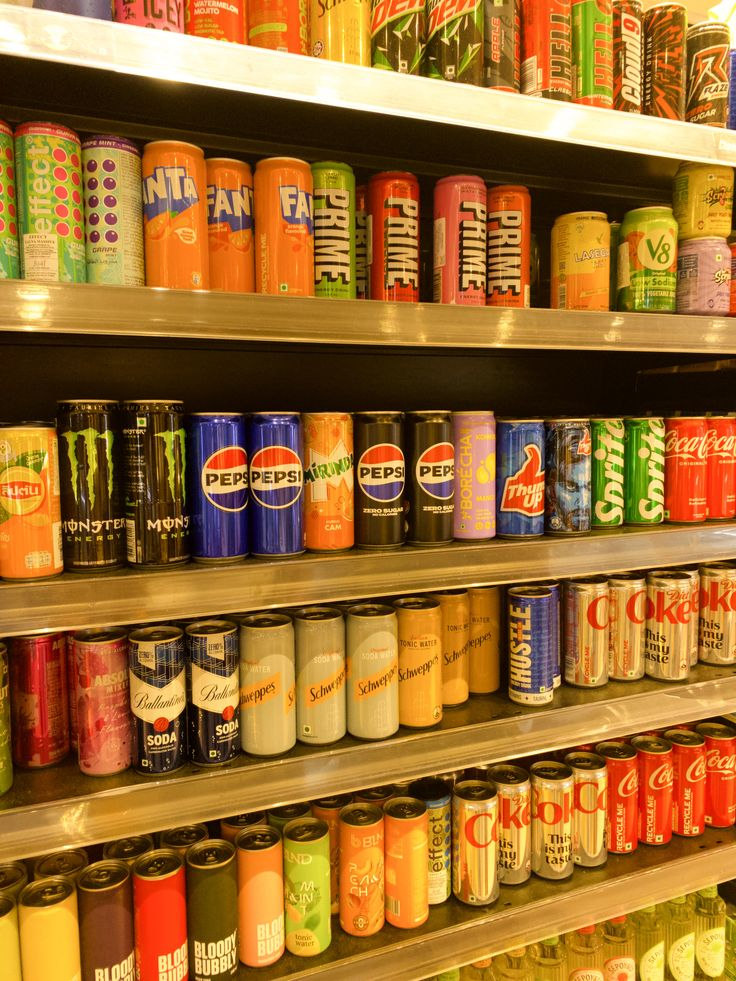soft_drink: (144, 141, 207, 288), (248, 412, 304, 556), (255, 158, 312, 295), (241, 614, 295, 754), (295, 607, 345, 743), (433, 175, 484, 306), (406, 412, 453, 543), (453, 780, 497, 903)
